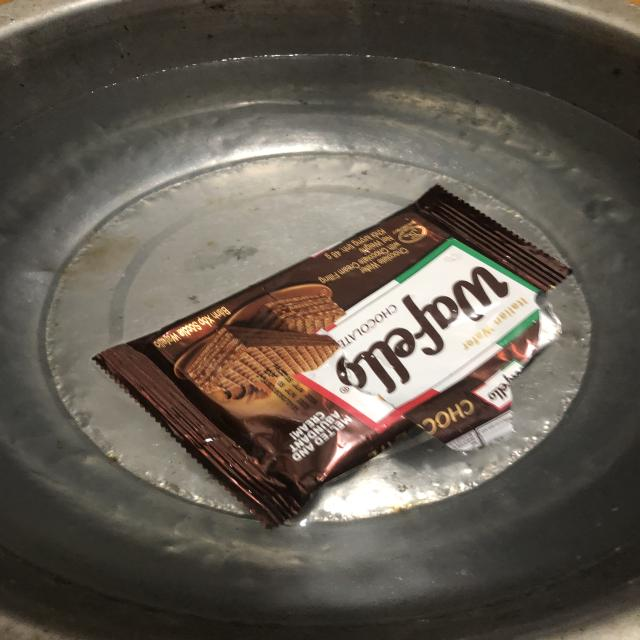Plastic Wrapper: (93, 188, 569, 522)
